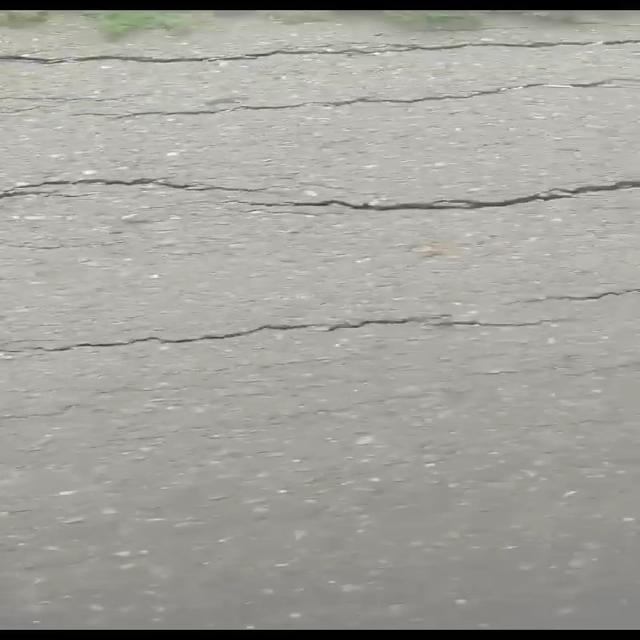Melintang: (0, 150, 640, 234)
